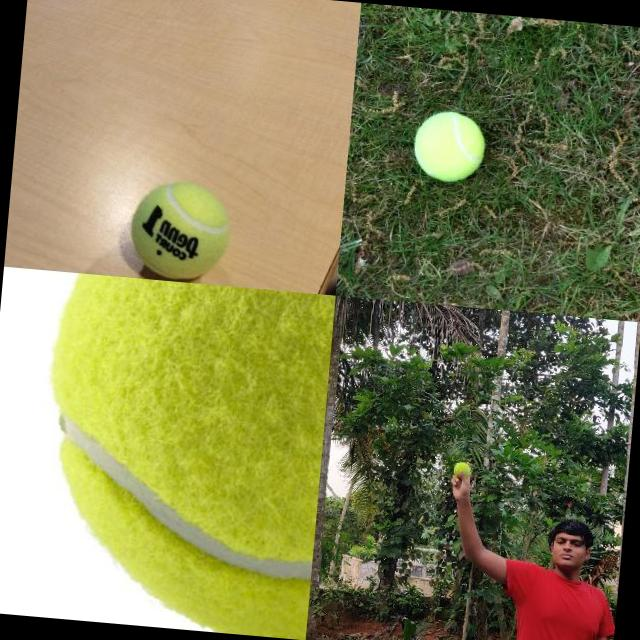Tennis Ball: (29, 271, 335, 639), (126, 176, 234, 284), (409, 108, 488, 184), (453, 462, 470, 479)
